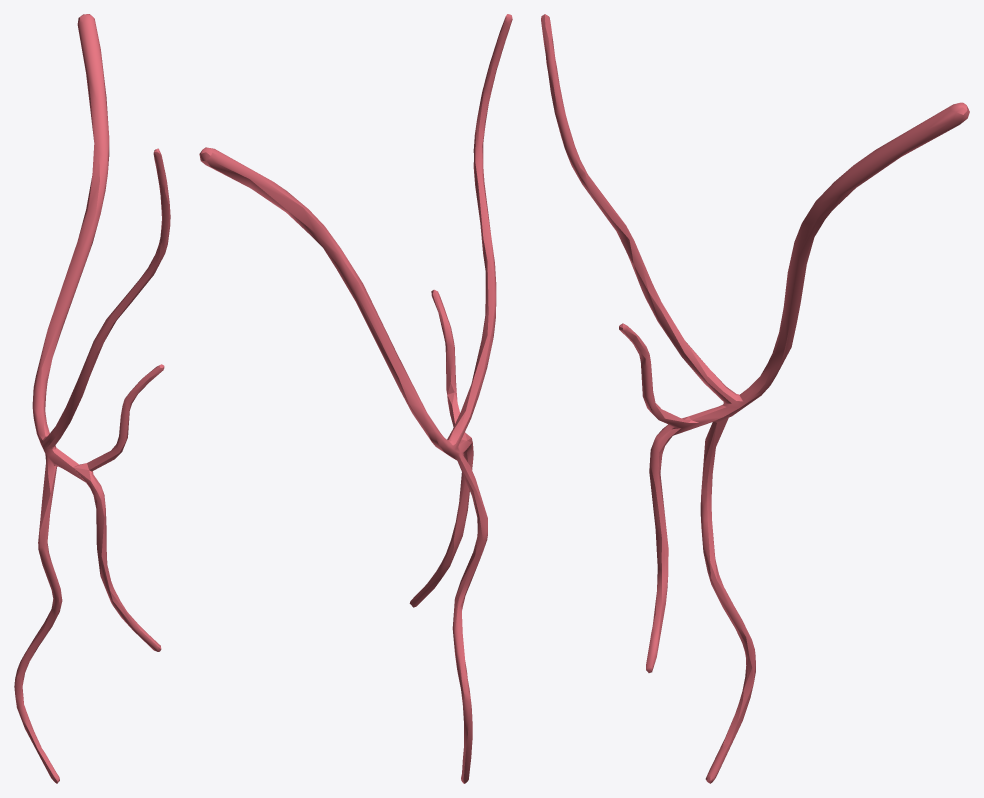
File: fma49941_fj5115.glb
3 views of the same model, side by side, from view 1: azimuth 30°, elevation 25°; view 2: azimuth 150°, elevation 25°; view 3: azimuth 270°, elevation 25° (orthographic). The views are drawn at different scales.
Visible parts, largest first — view 1: FMA49941_FJ5115; view 2: FMA49941_FJ5115; view 3: FMA49941_FJ5115.
Boxes of the visible parts, <box> form: FMA49941_FJ5115: <box>14,14,170,783</box>; FMA49941_FJ5115: <box>199,14,512,783</box>; FMA49941_FJ5115: <box>541,14,969,783</box>.
Bounding box in the file's own units: 0.00697 × 0.0267 × 0.0132.
